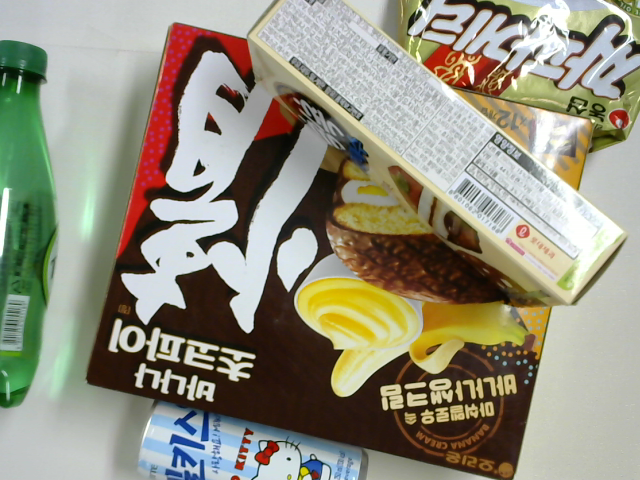Chicchok_Tiramisu: (247, 1, 628, 308)
Choco_Pie_Banana: (85, 22, 597, 480)
Milkies_250ml: (132, 398, 371, 480)
Olive_Chapaghetti: (397, 1, 639, 153)
Treviraim_500ml: (1, 39, 57, 408)
